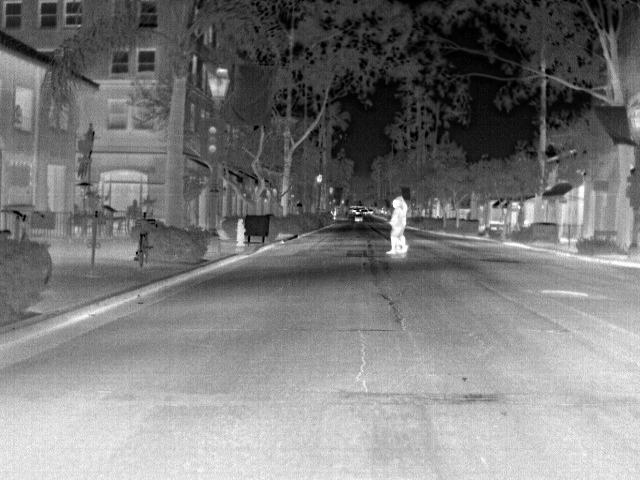car: (352, 213, 365, 224)
person: (396, 194, 411, 257), (386, 198, 402, 256)
